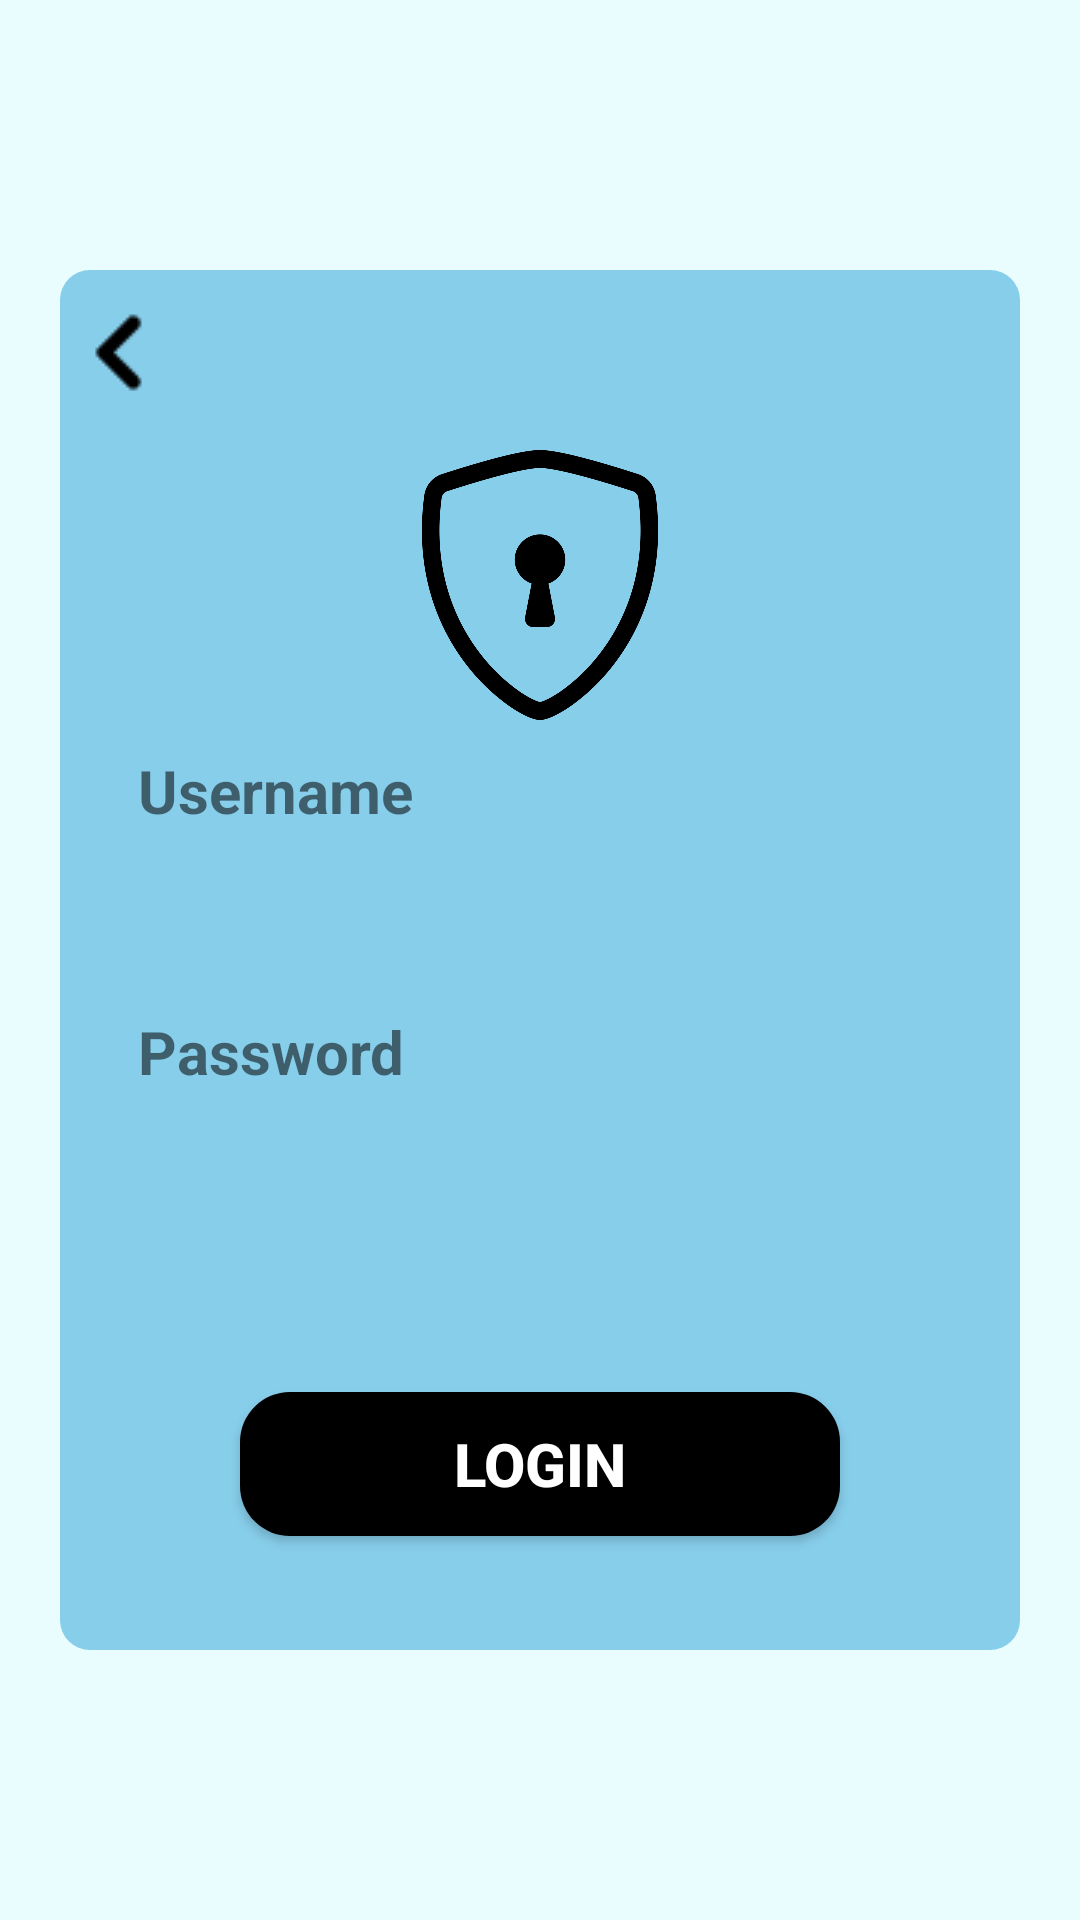

Locate icon controls on the screen. Image size 1080*1920, boxes as (x1, y1, x2, y2).
lock: (422, 450, 658, 720)
